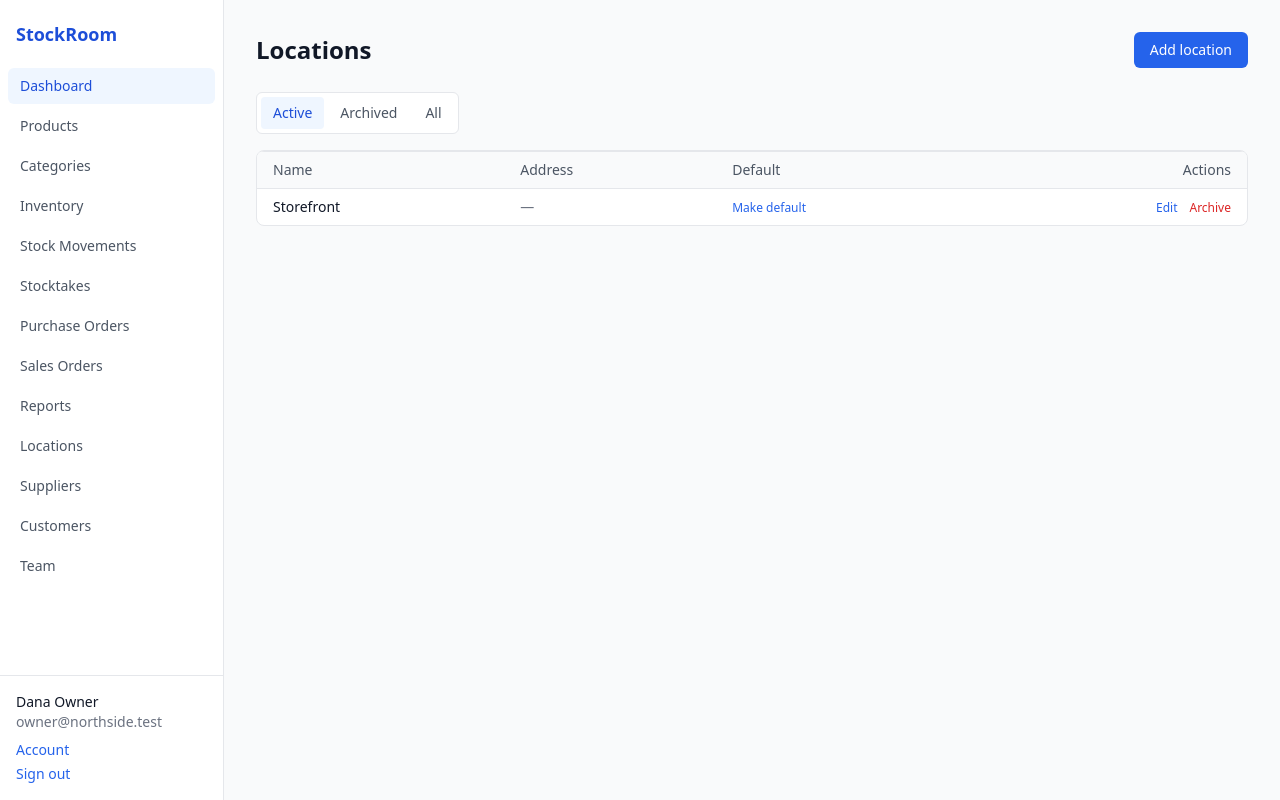
Test: LocationsPage archive › names the location in the confirmation before archiving anything
The image size is (1280, 800).
Expected: the text "Storefront" is shown, [257,188,504,225]
What coordinates should you click on to do the following:
click the button "Archive"
I would click on:
 (1210, 208)
Its box is [1190,200,1231,216].
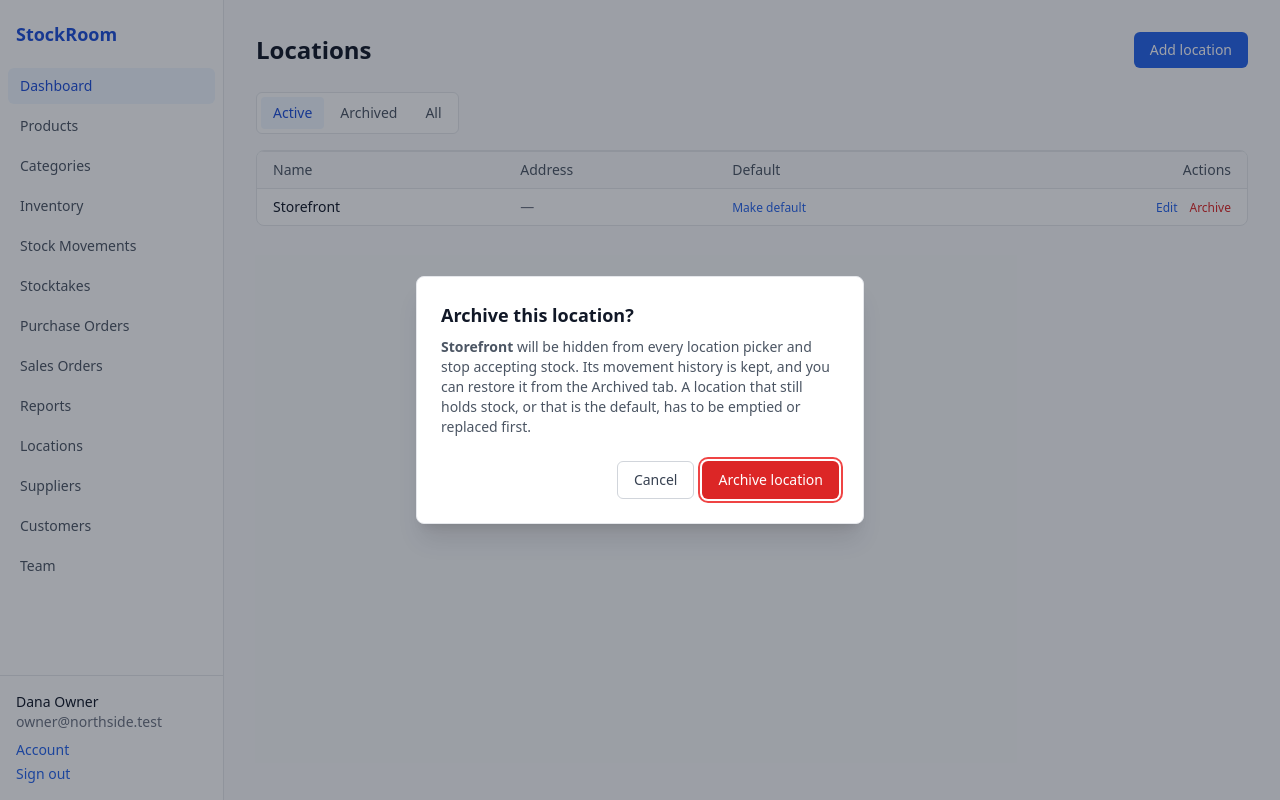
Expected: the text "Storefront" is shown, [441,337,513,356]
